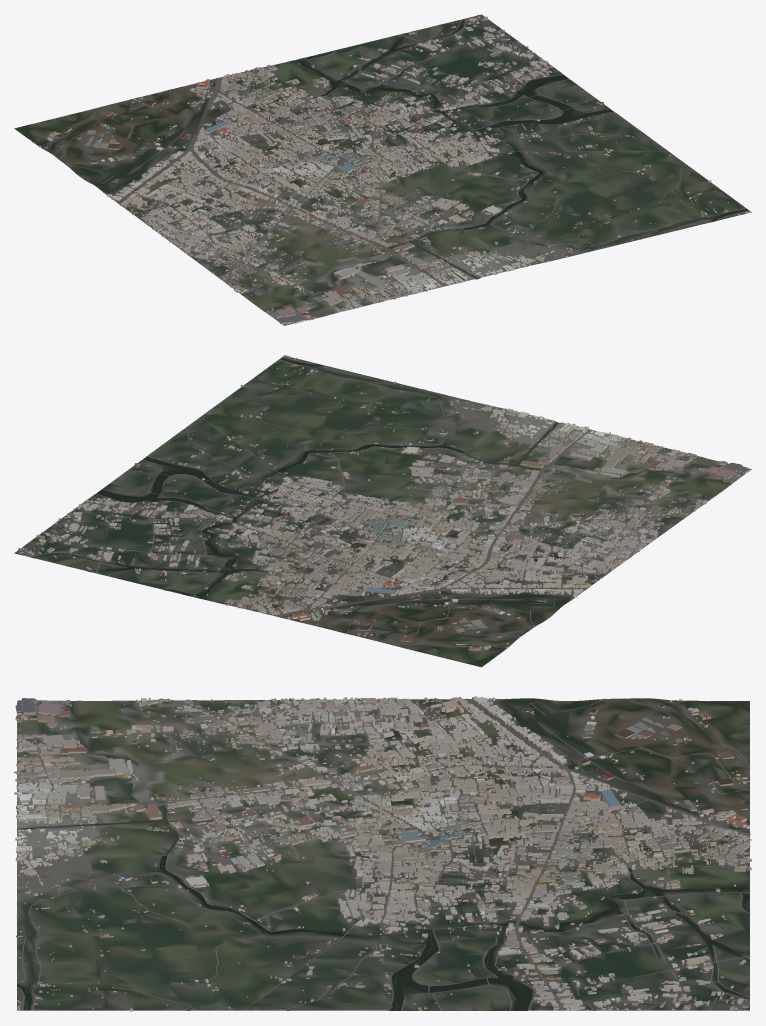
3 views of the same model, one above another, from view 1: azimuth 30°, elevation 25°; view 2: azimuth 150°, elevation 25°; view 3: azimuth 270°, elevation 25° (orthographic). The views are drawn at different scales.
Parts seen in each view (by area): view 1: ground, buildings, roads, water; view 2: ground, buildings, roads, water; view 3: ground, buildings, roads, water.
Boxes of the visible parts, x1,y1,x2,y2 form: ground: (14,14,751,325); buildings: (38,15,750,324); roads: (42,16,747,308); water: (296,19,748,288); ground: (14,356,751,667); buildings: (18,355,750,650); roads: (16,357,702,646); water: (33,357,650,598); ground: (17,698,749,1010); buildings: (14,696,751,1011); roads: (16,698,750,1010); water: (17,750,749,1010).
Bounding box in the file's own units: 2814 × 37.01 × 2820.
